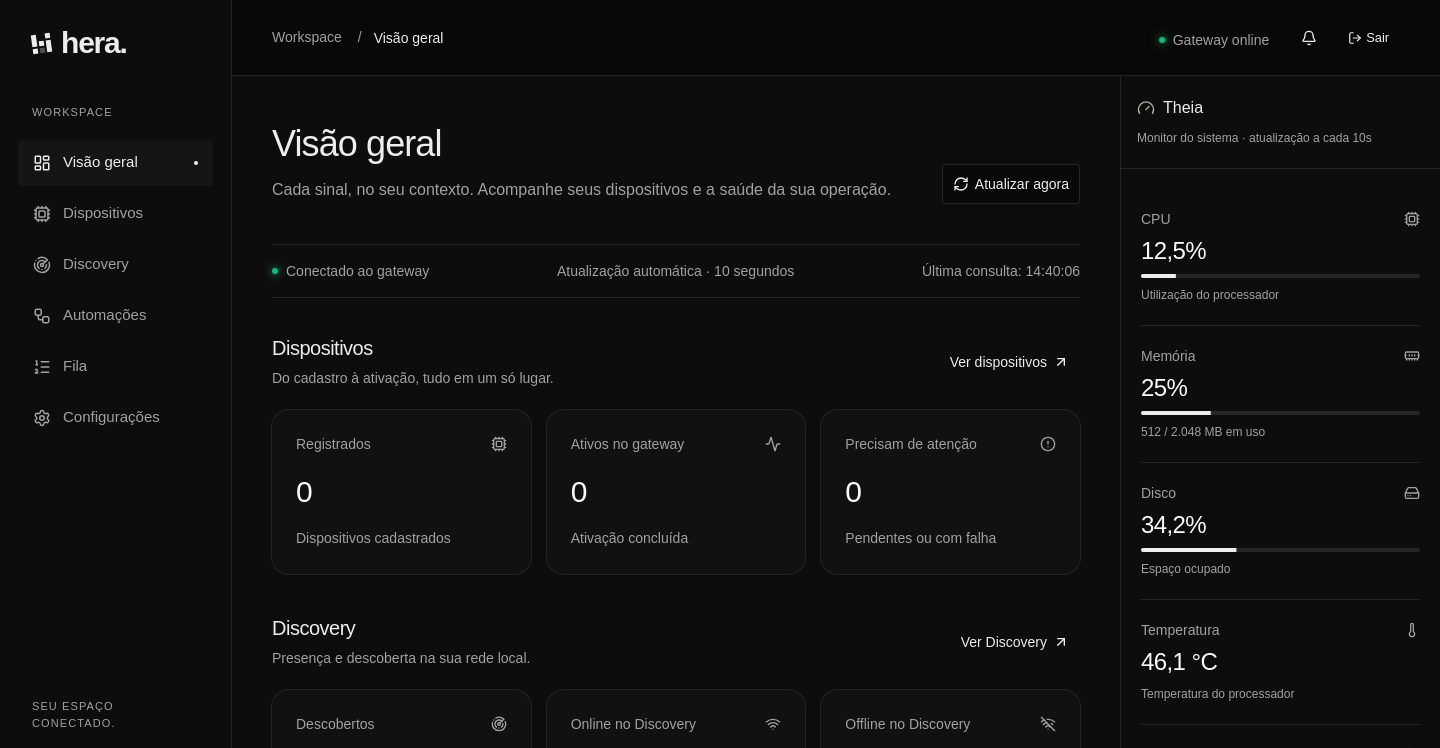
Test: handles protobuf omitted zeros and older gateways without breakdowns
Click the button "Atualizar agora": coordinates (1011, 184) [942,164,1080,204]
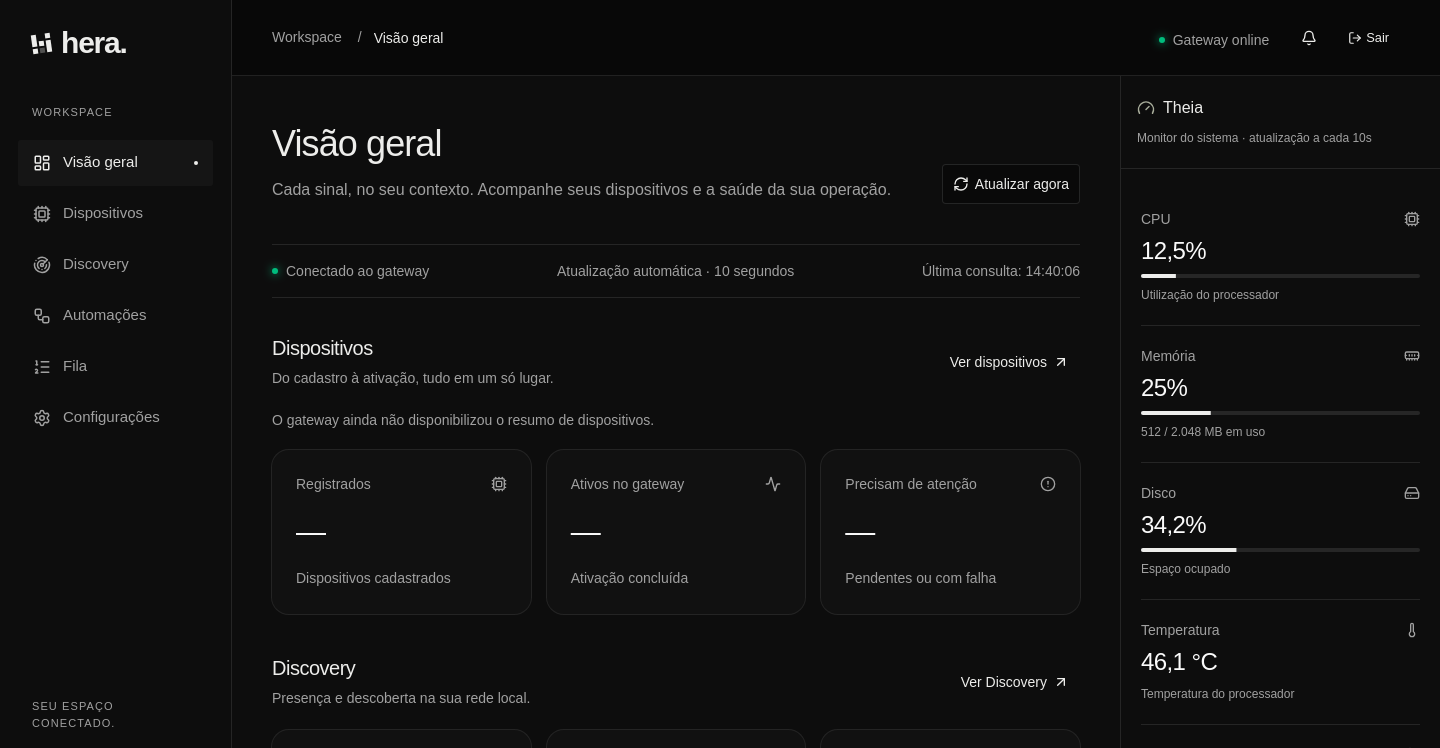
Expected: the text "O gateway ainda não disponibilizou o resumo de dispositivos." is shown, [272,412,654,428]
